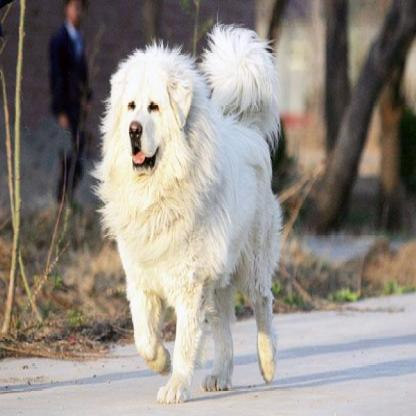Tibetan_mastiff: (89, 15, 281, 404)
